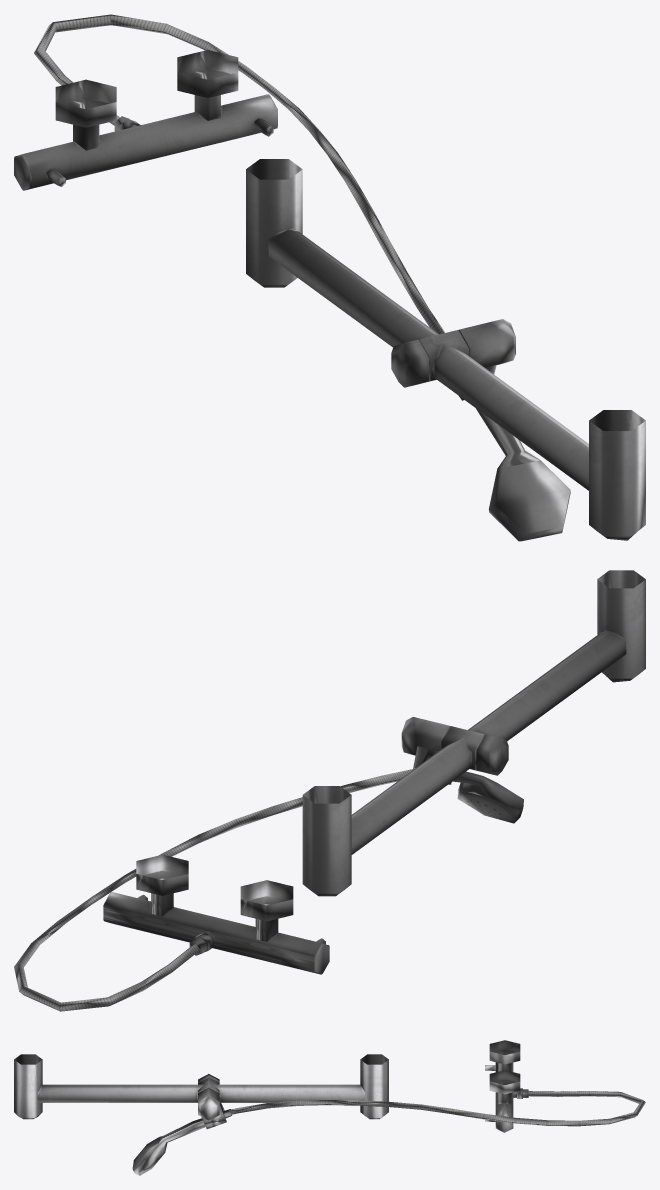
File: Shower.obj
3 renders of one model, top to bottom at view 1: azimuth 30°, elevation 25°; view 2: azimuth 150°, elevation 25°; view 3: azimuth 270°, elevation 25°, orthographic. The views are drawn at different scales.
Visible parts, largest first — view 1: shower; view 2: shower; view 3: shower.
Boxes of the visible parts, x1,y1,x2,y2 form: shower: (14, 14, 645, 541); shower: (14, 570, 645, 1011); shower: (14, 1040, 645, 1175).
Size of the model in its own units: 0.2588 by 0.1904 by 1.05.
Materials: 1 (1 with a texture image).
